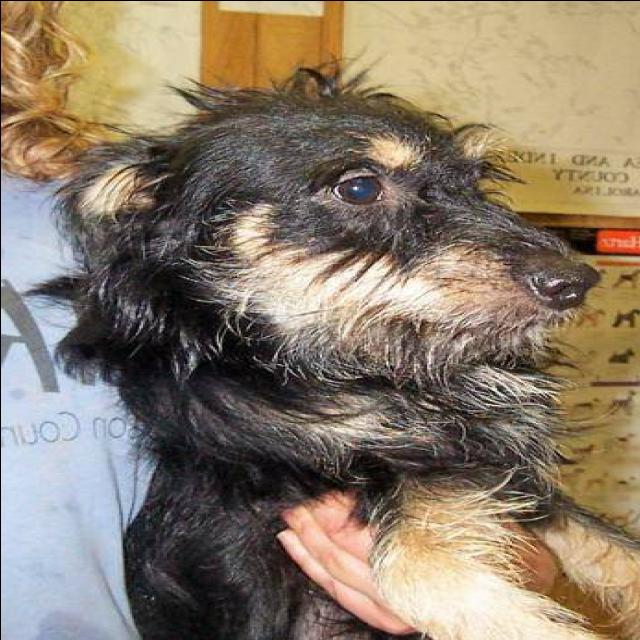dog: (10, 61, 629, 640)
